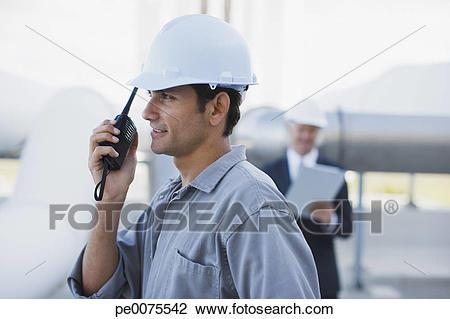helmet: (127, 15, 263, 92), (284, 97, 329, 131)
